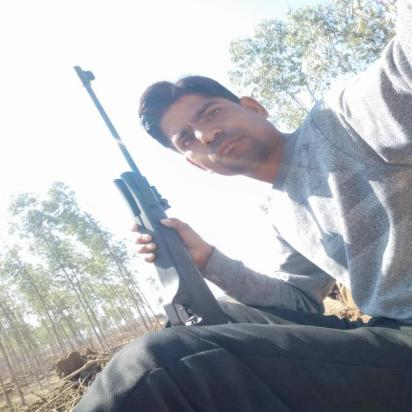Gun: (71, 62, 233, 330)
